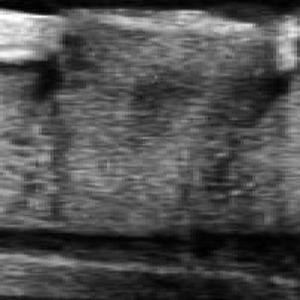tooth: (36, 8, 260, 237)
